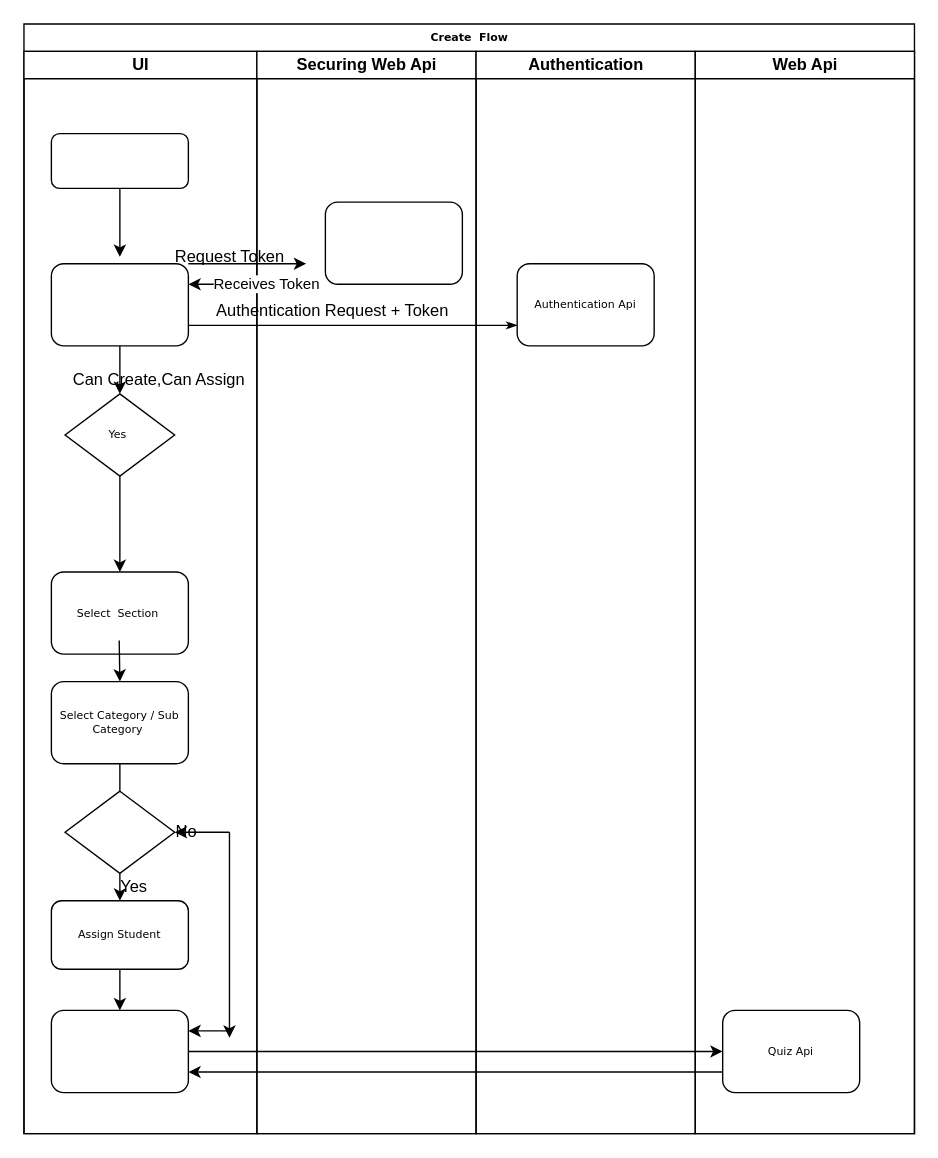
This 938x1158 diagram has some shape labels left out. Each missing label, with the centre of its shape:
Can Assign: (x=119, y=831)
Create Question: (x=119, y=1051)
Identity Server: (x=393, y=242)
Teacher: (x=119, y=160)
Validate: (x=119, y=304)
